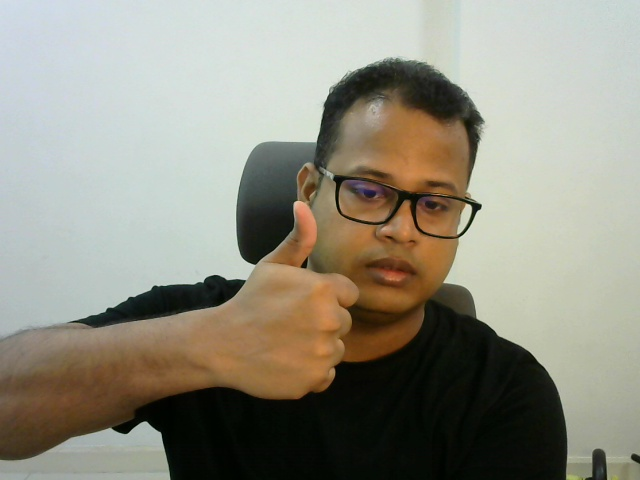ThumbsUp: (242, 200, 359, 401)
